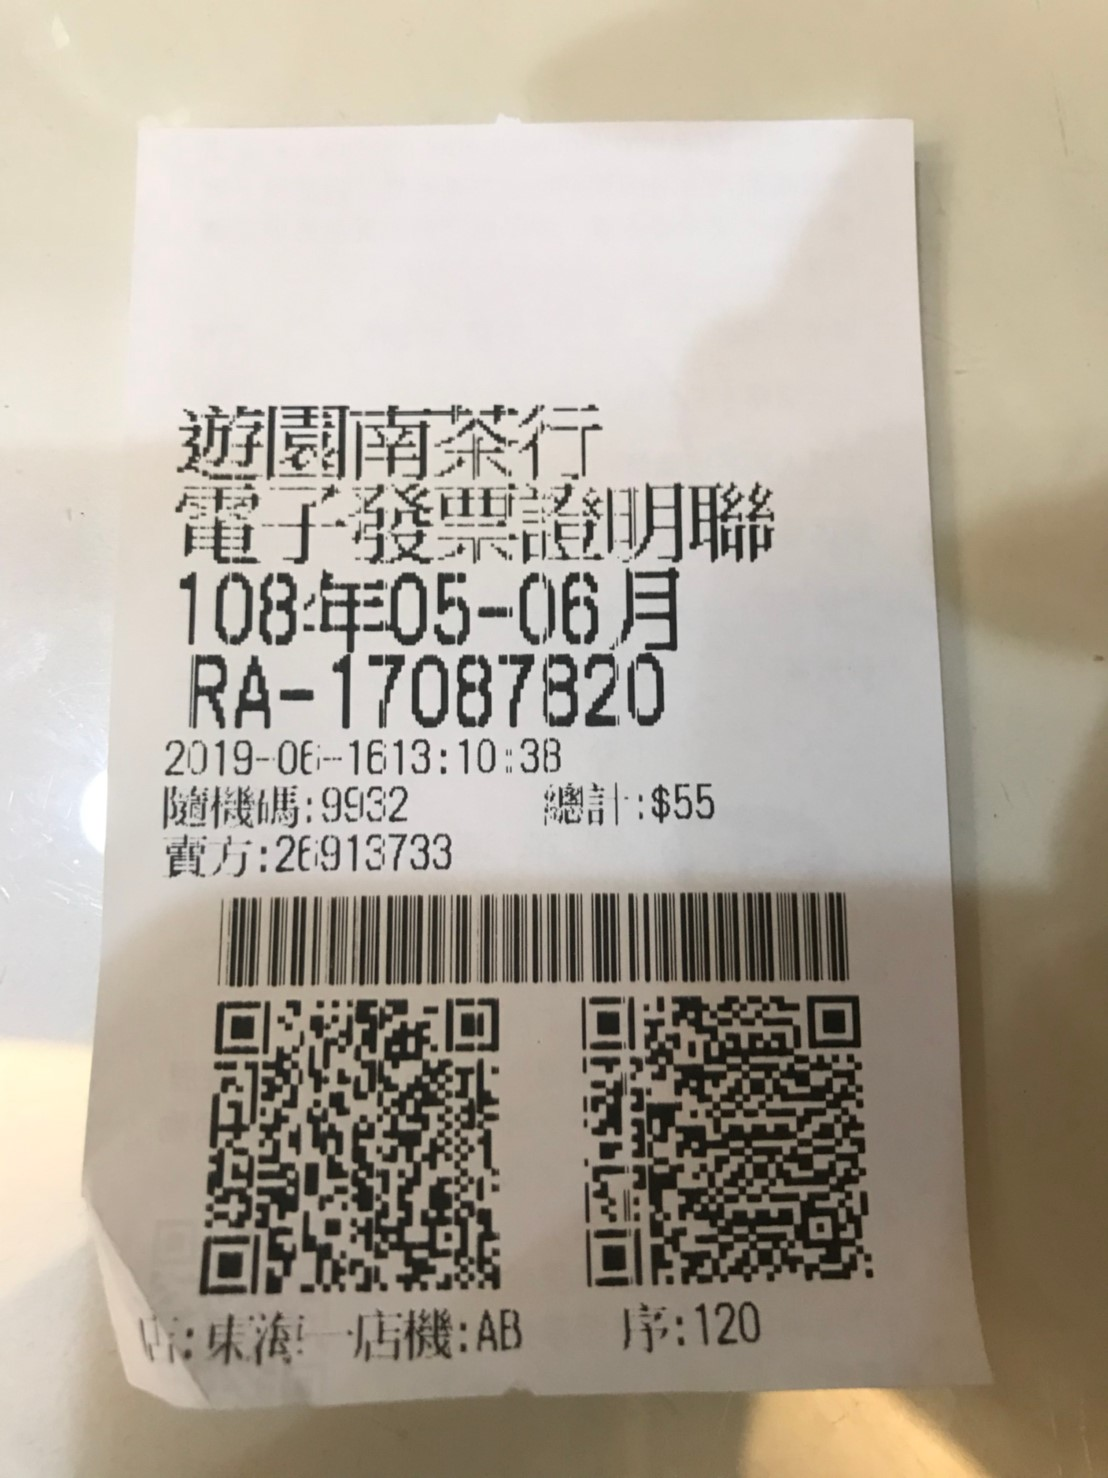Date_New: (173, 563, 684, 655)
Number_New: (324, 649, 673, 731)
